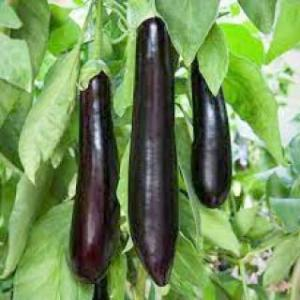eggplant: (129, 12, 179, 282), (69, 57, 115, 281), (187, 50, 231, 208)
